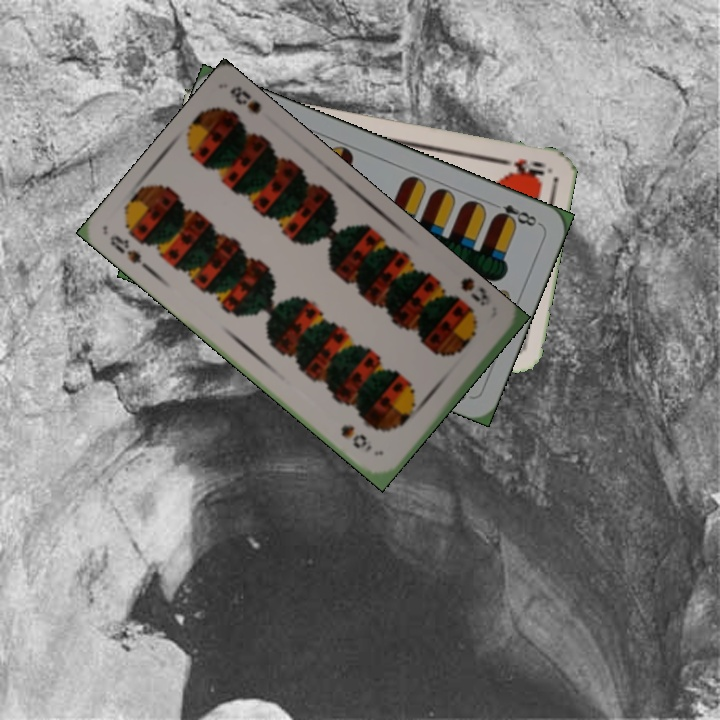E8: (490, 200, 542, 230)
HO: (492, 154, 548, 179)
S8: (105, 231, 155, 275), (456, 273, 493, 309)
